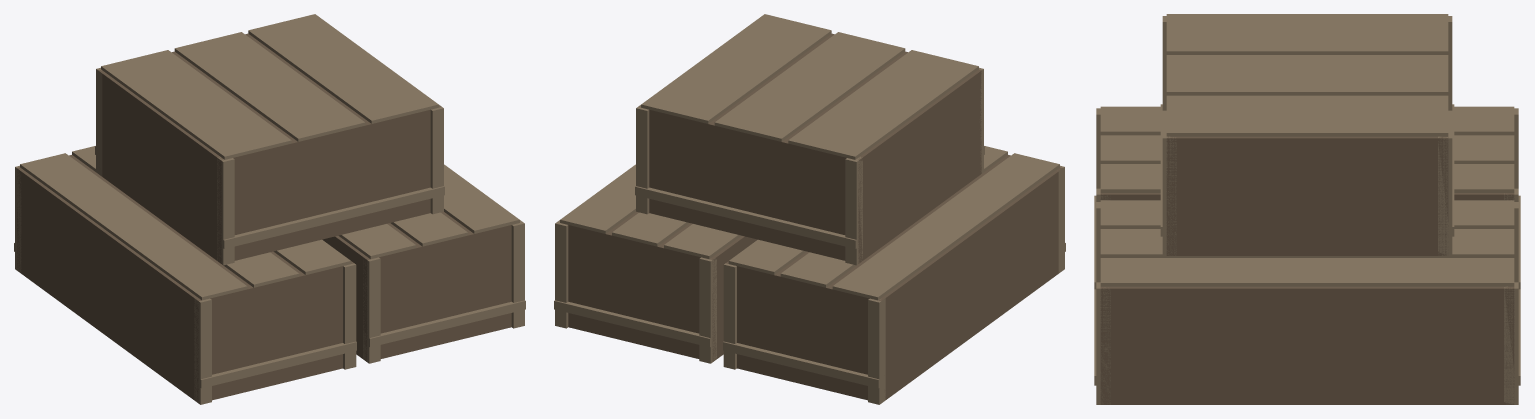
The model's file is crate_stack.glb.
The picture shows the model from 3 angles, left to right: view 1: azimuth 30°, elevation 25°; view 2: azimuth 150°, elevation 25°; view 3: azimuth 270°, elevation 25°; orthographic projection. The views are drawn at different scales.
Visible parts, largest first — view 1: crate_stack; view 2: crate_stack; view 3: crate_stack.
Part boxes in pixels (x1,y1,x2,y2): crate_stack: [14, 14, 525, 404]; crate_stack: [554, 14, 1065, 404]; crate_stack: [1094, 14, 1520, 404].
Bounding box in the file's own units: 2 × 1.25 × 2.
